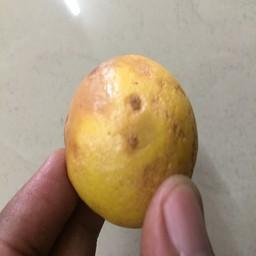Bad_lime: (65, 50, 205, 228)
